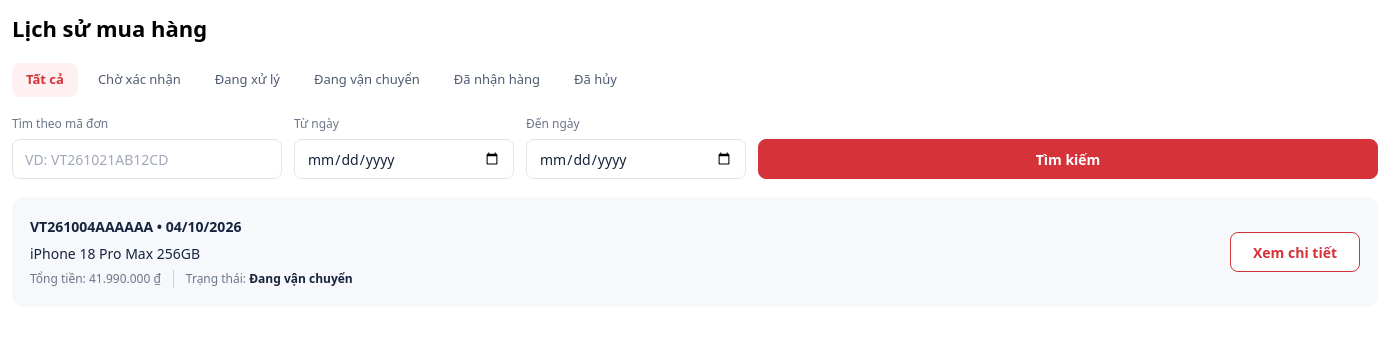
Test case: order history › a start day after the end day is refused without asking the API
The width and height of the screenshot is (1390, 359).
Expected: the text "VT261004AAAAAA • 04/10/2026" is shown, [30,217,241,236]
In the date field labelled "Từ ngày": (404, 159) [294,139,514,179], type "2026-10-04"
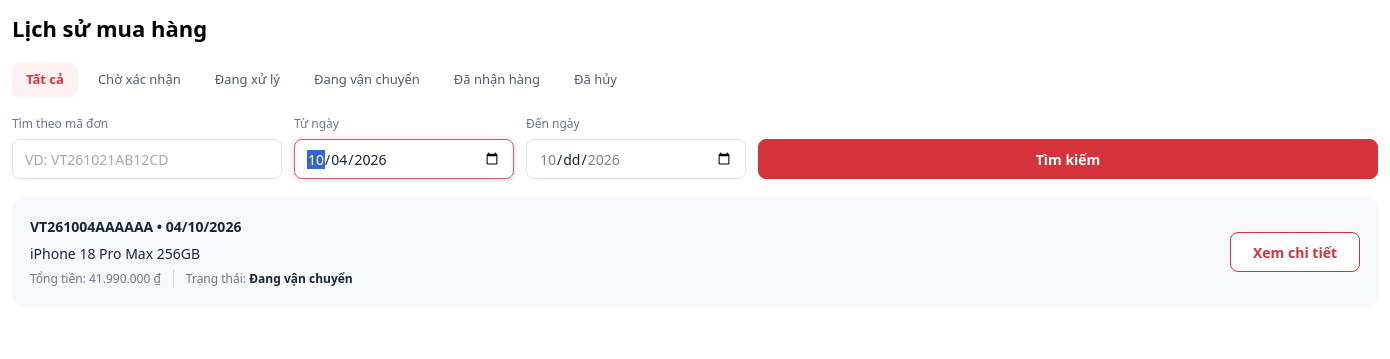
In the date field labelled "Đến ngày": (636, 159) [526,139,746,179], type "2026-10-01"
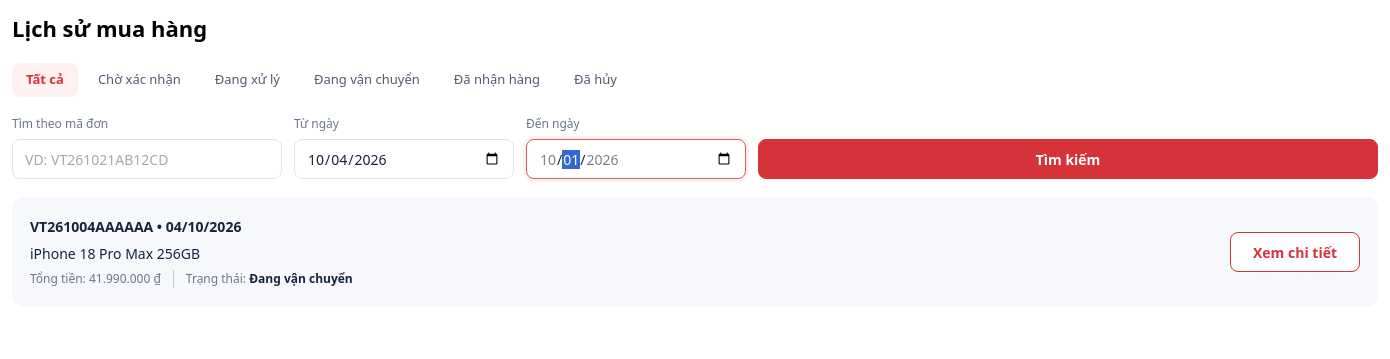
Click the button "Tìm kiếm": (1068, 159) [758,139,1378,179]
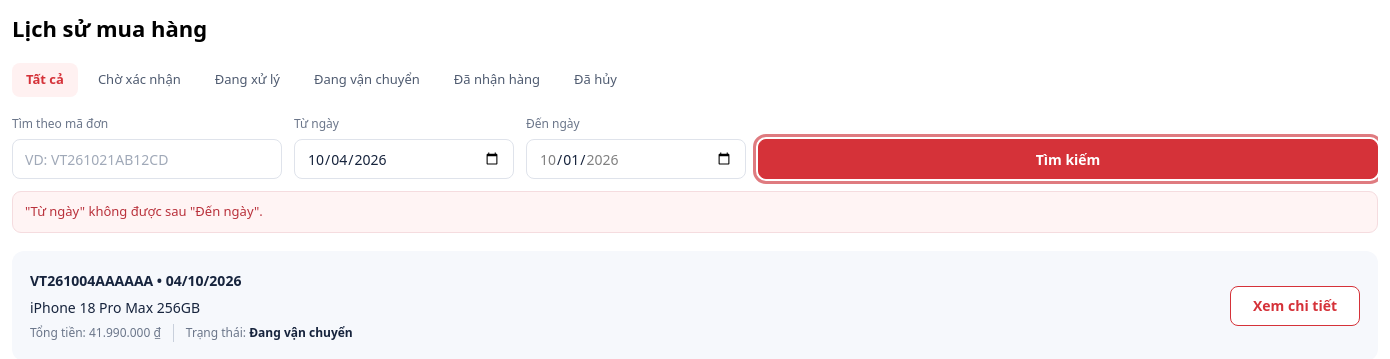
Result: the message reads "\"Từ ngày\" không được sau \"Đến ngày\"." at [25,202,263,220]
